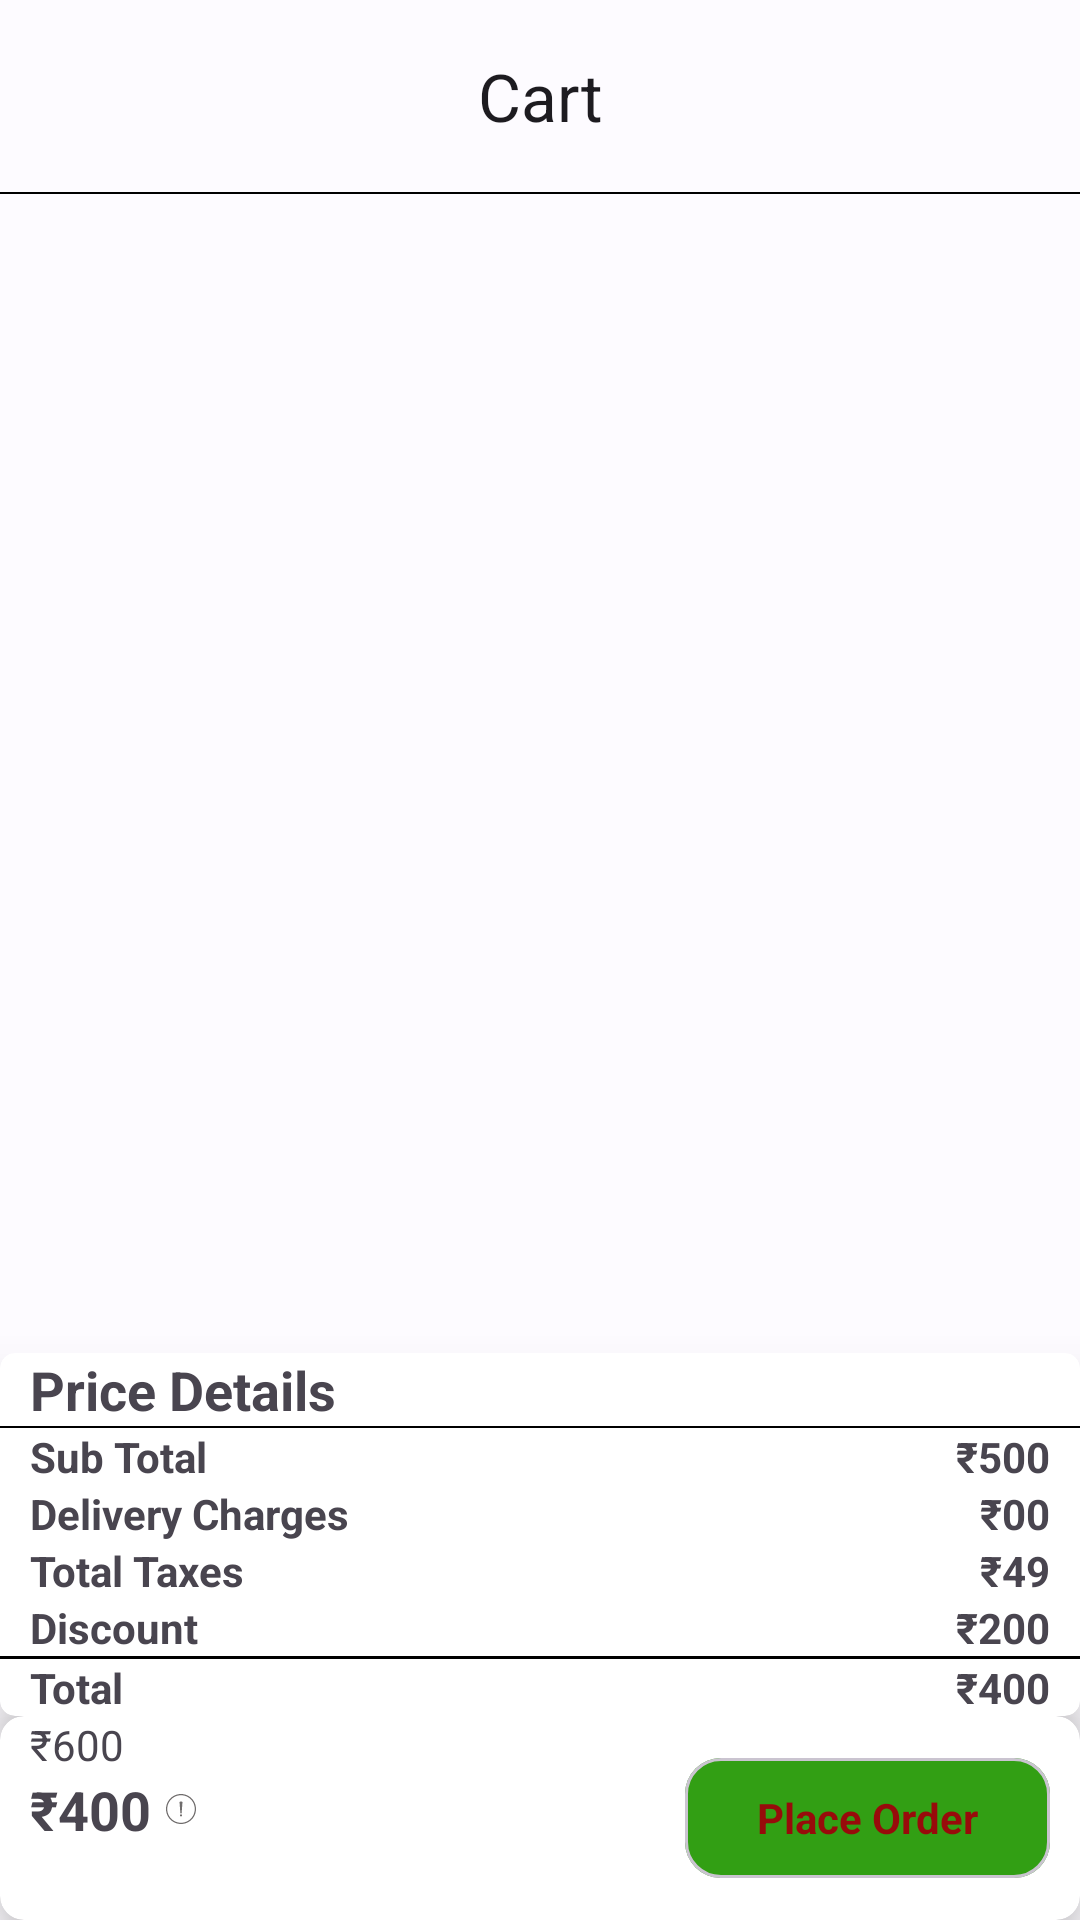

Screen size 1080x1920. Icon name, then its box in pixels as bbox=(x1, y1, x2, y2):
exclamation round line: bbox=(166, 1794, 196, 1824)
